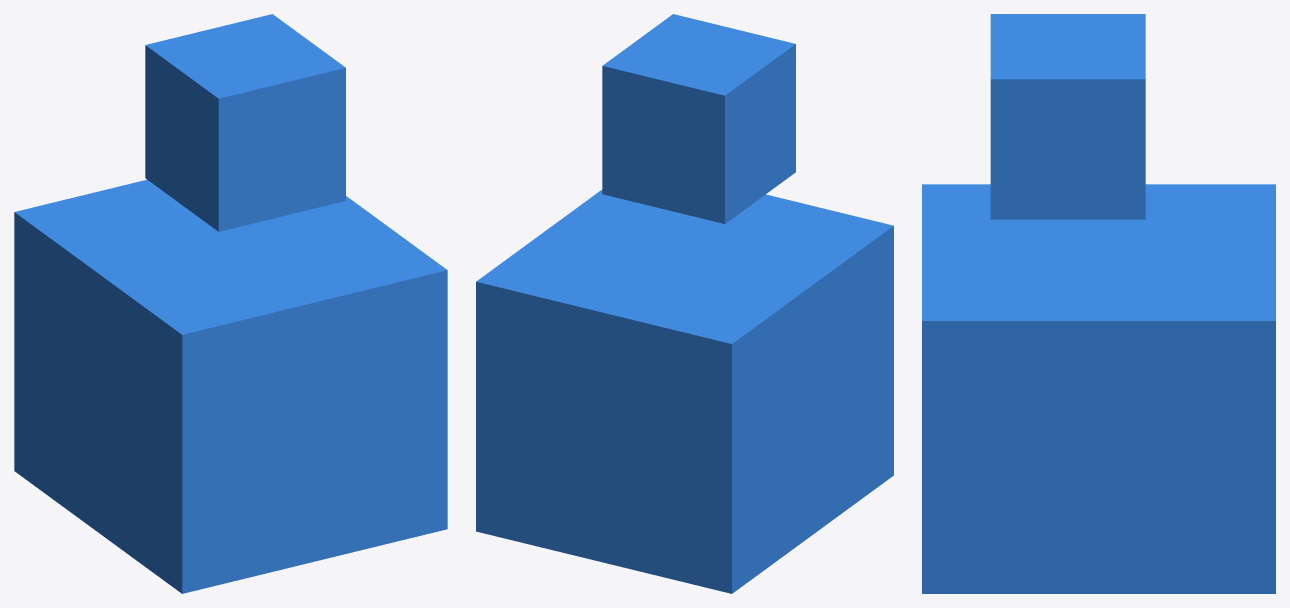
The model's file is PlayerCube.fbx.
The picture shows the model from 3 angles, left to right: view 1: azimuth 30°, elevation 25°; view 2: azimuth 150°, elevation 25°; view 3: azimuth 270°, elevation 25°; orthographic projection. The views are drawn at different scales.
Parts seen in each view (by area): view 1: Torzo, Head.001; view 2: Torzo, Head.001; view 3: Torzo, Head.001.
Boxes of the visible parts, bbox=[...] form: Torzo: bbox=[14, 179, 447, 593]; Head.001: bbox=[145, 14, 345, 231]; Torzo: bbox=[476, 189, 893, 593]; Head.001: bbox=[602, 14, 795, 223]; Torzo: bbox=[922, 184, 1275, 593]; Head.001: bbox=[990, 14, 1145, 219].
Bounding box in the file's own units: 85.76 × 140 × 93.95.
